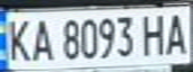0: (78, 15, 100, 61)
3: (115, 12, 139, 59)
8: (57, 15, 81, 61)
9: (97, 13, 118, 60)
A: (160, 8, 193, 56), (27, 16, 57, 63)
H: (136, 10, 172, 56)
K: (3, 15, 33, 64)
